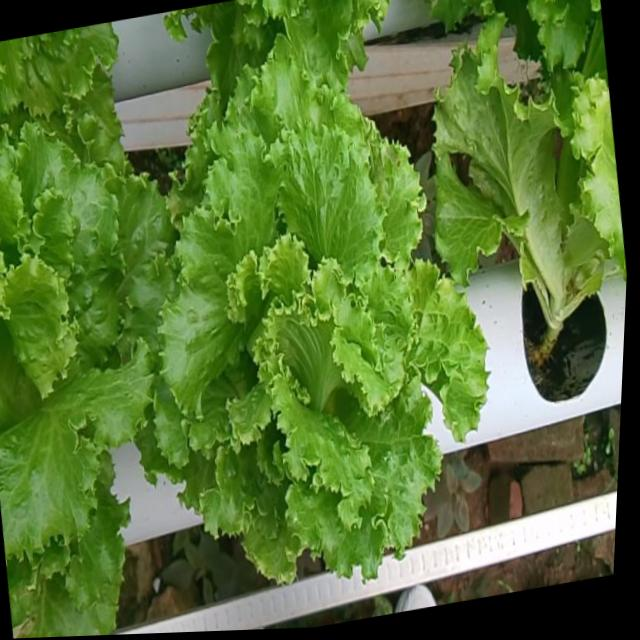Mature: (161, 71, 494, 596), (0, 136, 180, 584)
